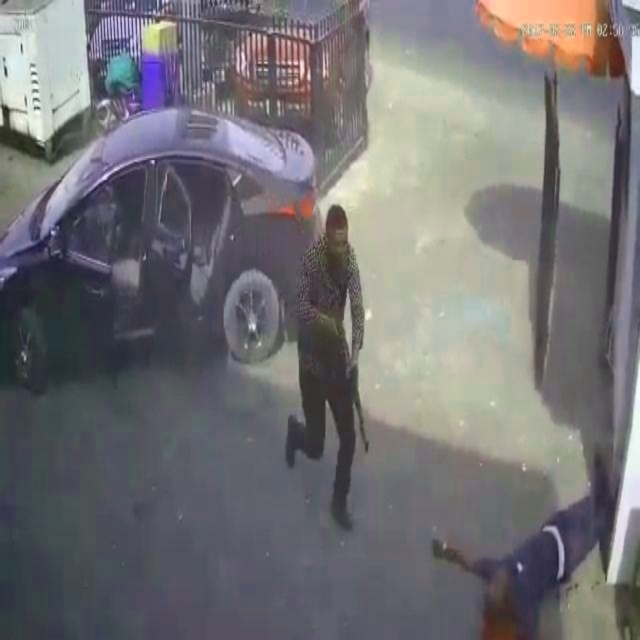gun: (318, 287, 375, 462)
